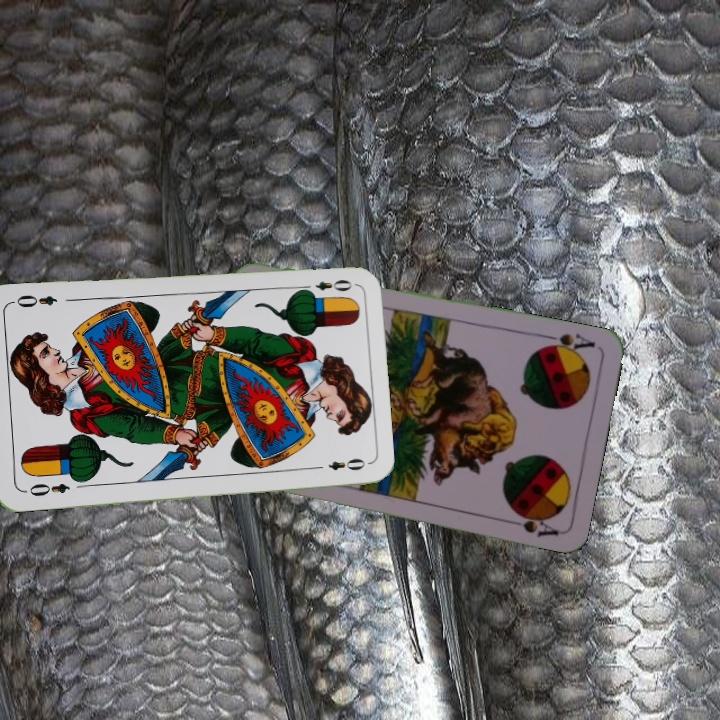EO: (297, 275, 355, 297), (20, 479, 72, 499)
SA: (538, 329, 597, 358)
